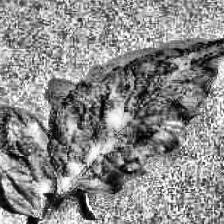leaf mold: (0, 35, 224, 212)
